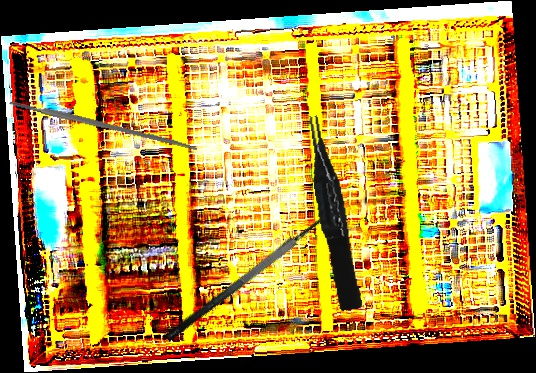Scalpel Handle: (8, 97, 199, 153)
Spatula Surgical: (152, 187, 351, 343)
Tissue Forceps: (304, 112, 363, 313)
